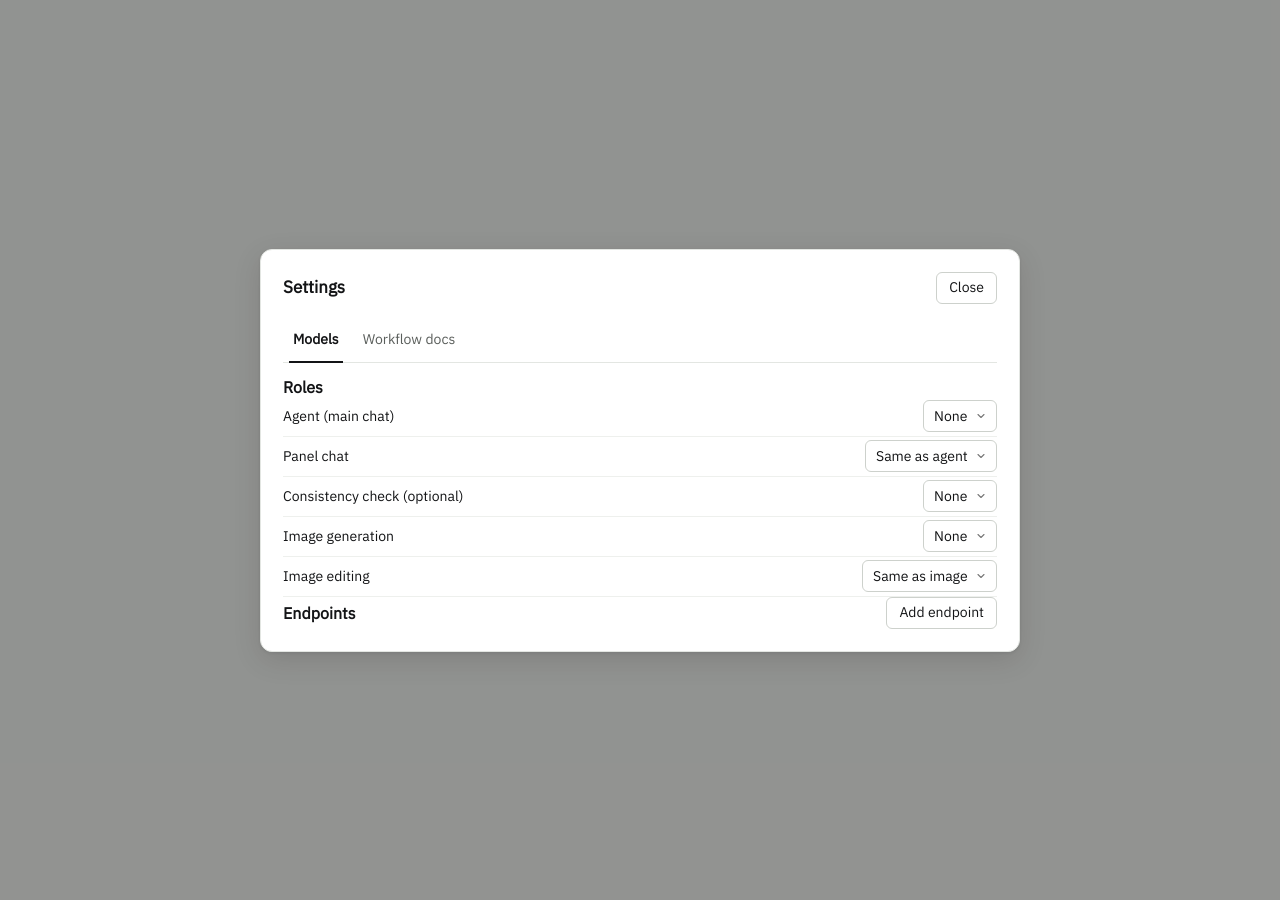
Test: SettingsDialog › opens on Models and switches to the Workflow docs tab
This screenshot has width=1280, height=900.
Check: the dropdown named "agent role" is shown, box [923,400,997,432]
Click the tab "Workflow docs" at [409, 340], box [353,318,465,362]
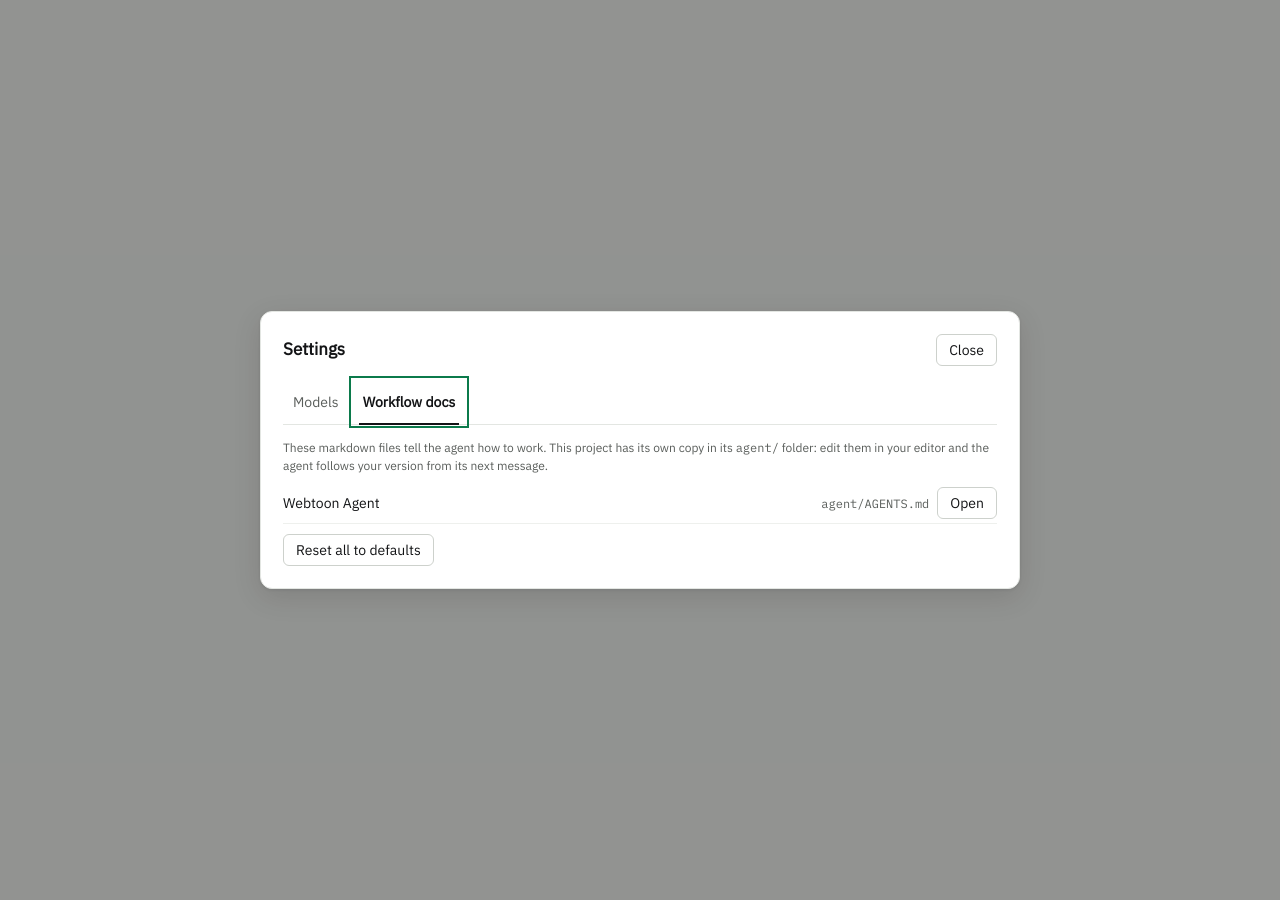
Check: the text "Webtoon Agent" is shown, box [283,494,380,512]
